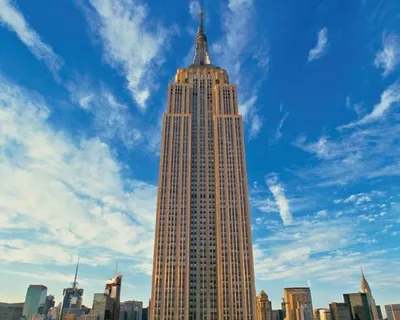high_rise_building: (151, 4, 263, 318)
